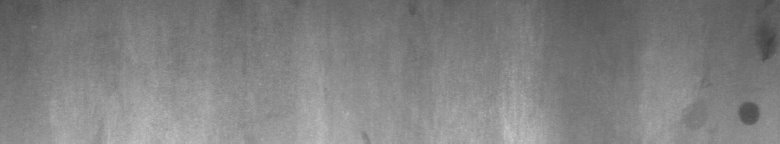fi: (702, 37, 776, 132)
